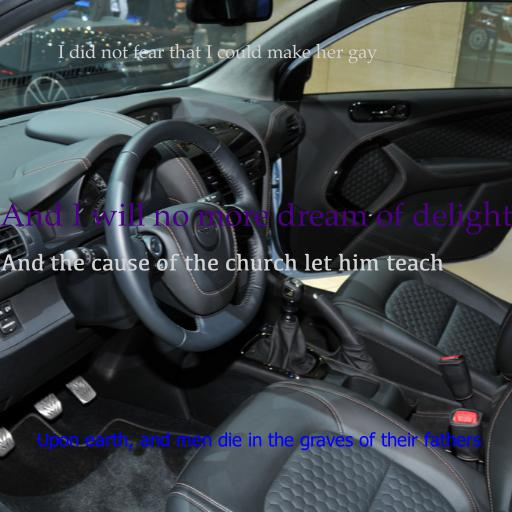Kefa: (0, 253, 444, 271)
Palatino: (0, 200, 512, 235), (57, 43, 377, 64)
Tahoma: (37, 432, 481, 451)
